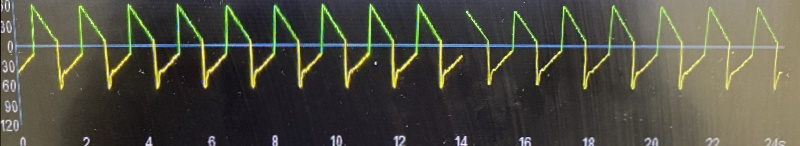peepi: (11, 0, 791, 95)
